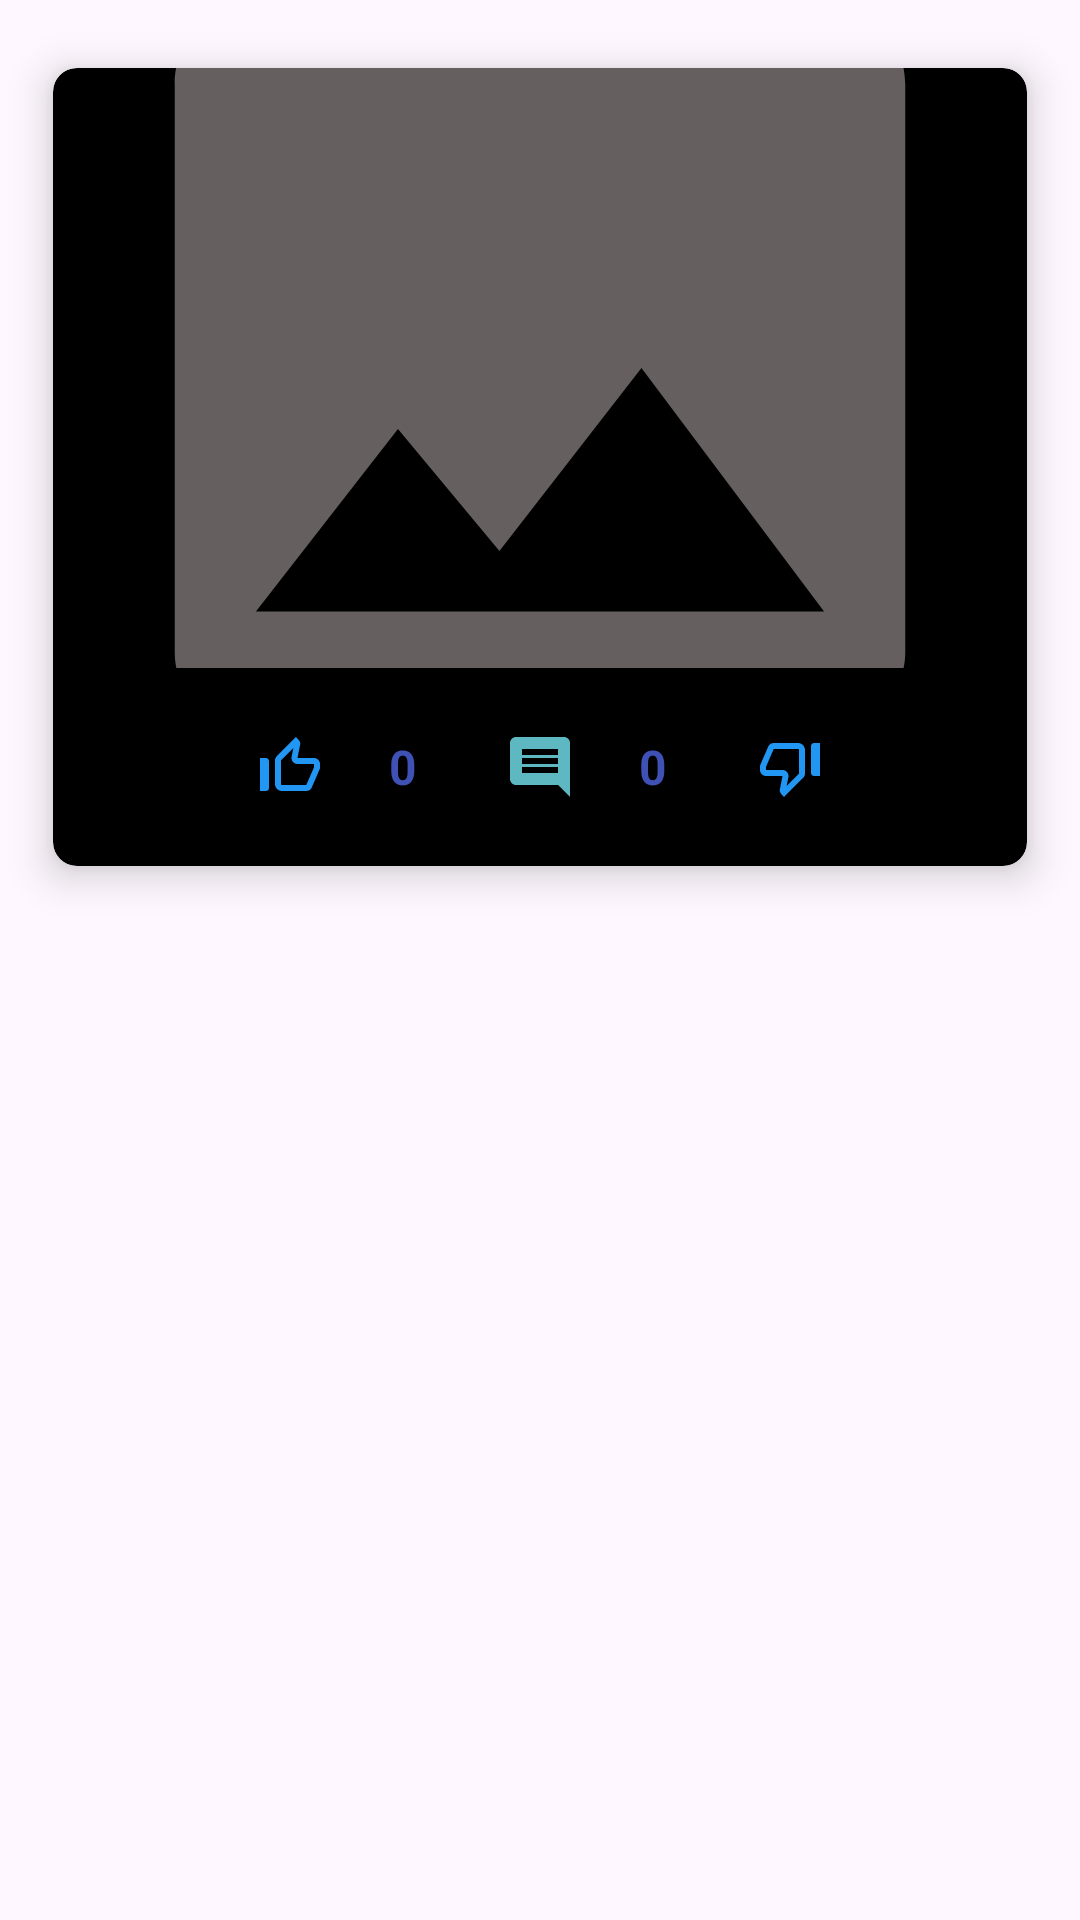

Point at icon controls on the screen. Image size 1080px×1920px, points as point (x, y).
comment: point (540, 767)
like: point (290, 764)
unlike: point (790, 770)
